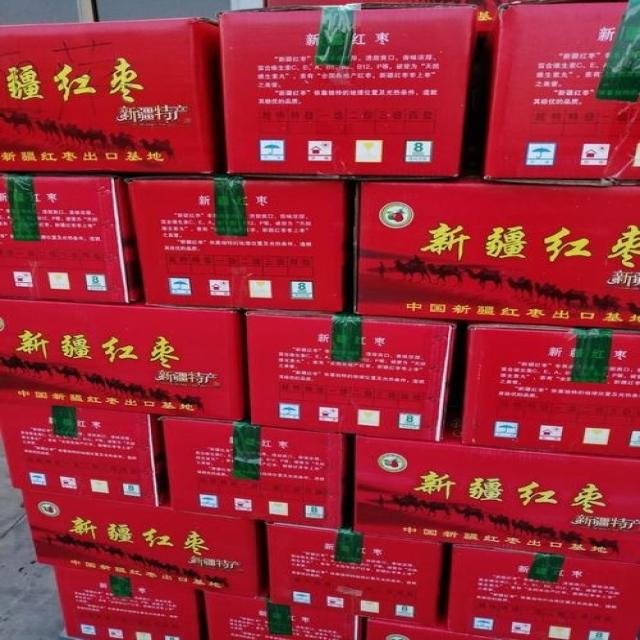box: (218, 3, 479, 179), (352, 179, 640, 330), (353, 419, 640, 564), (0, 16, 227, 174), (127, 175, 344, 313), (0, 299, 244, 421), (483, 0, 640, 187), (244, 313, 460, 442), (22, 489, 260, 598), (460, 322, 640, 460), (159, 415, 344, 530), (0, 172, 142, 304), (448, 543, 640, 640), (266, 521, 442, 626), (0, 402, 165, 507), (54, 567, 202, 640), (204, 589, 362, 640)
